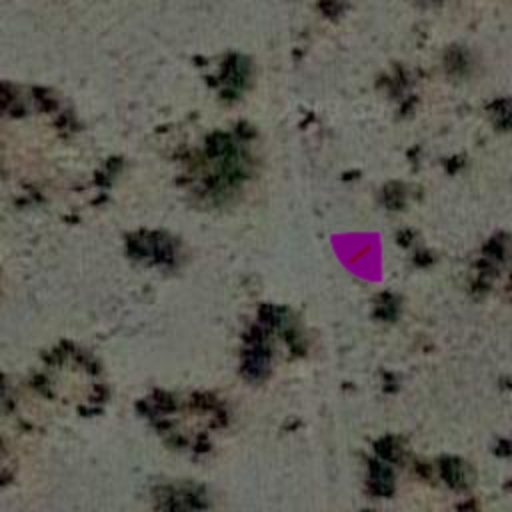quarter_circle: (310, 204, 410, 304)
